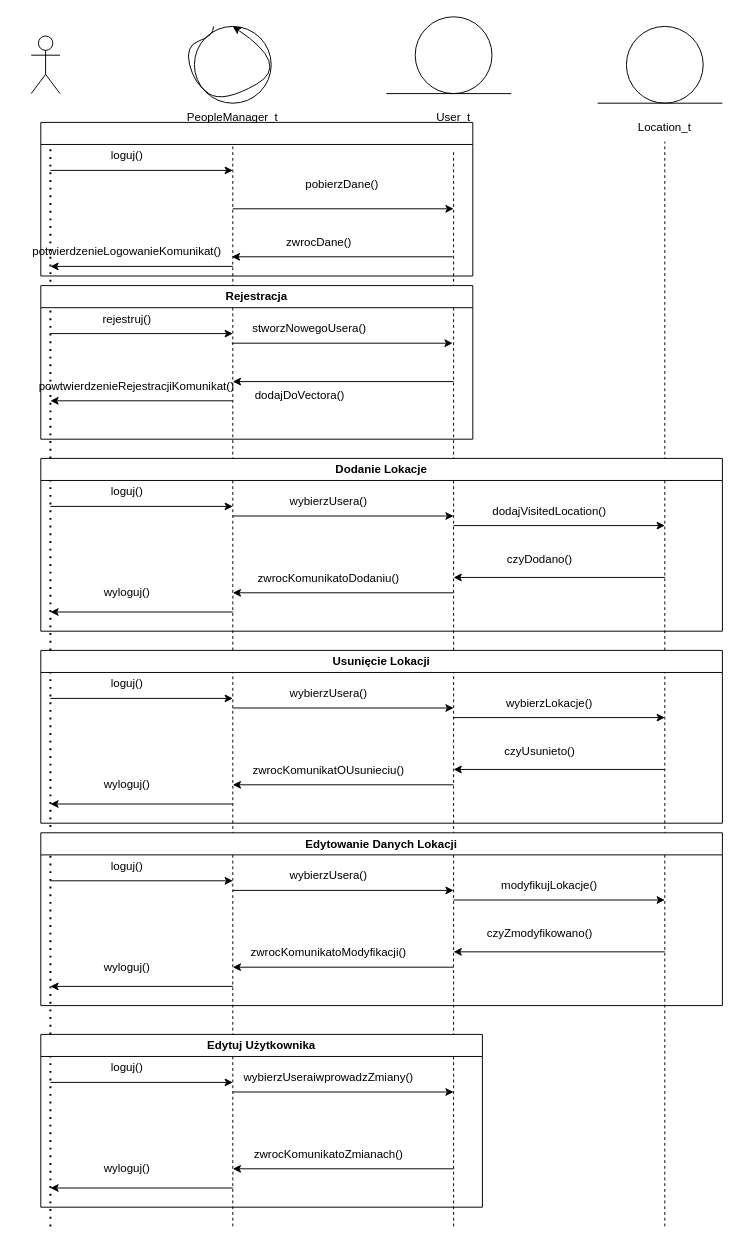
Some shapes in this 740 by 1245 pixel diagram are drawn without their labels. Here are the shapes that lost their labels. From the top down, the centre of each, then its label:
At pixel 45 64: "Użytkownik".
At pixel 256 198: "Logowanie".
